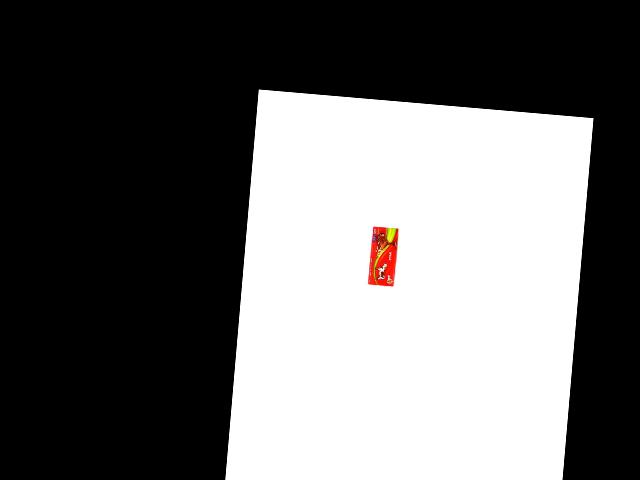chocolate: (362, 224, 400, 290)
